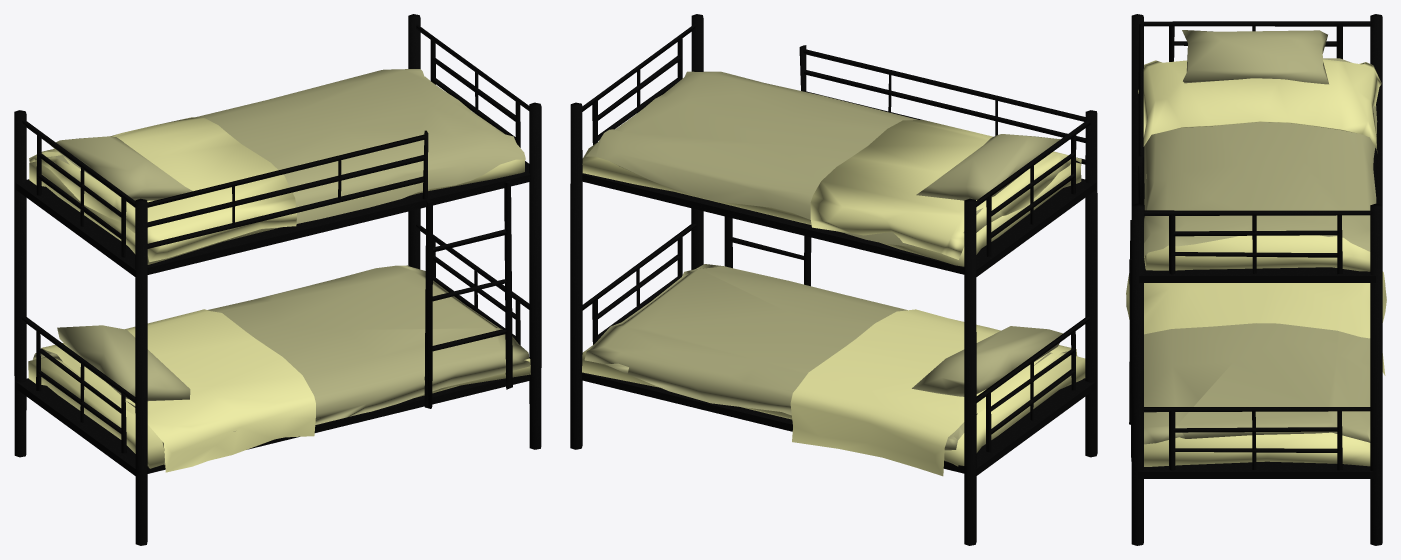
Rendered from metal_bunkbeds.glb.
3 views of the same model, side by side, from view 1: azimuth 30°, elevation 25°; view 2: azimuth 150°, elevation 25°; view 3: azimuth 270°, elevation 25° (orthographic).
Visible parts, largest first — view 1: Cube.002_Material_0; view 2: Cube.002_Material_0; view 3: Cube.002_Material_0.
Part boxes in pixels (x1,y1,x2,y2): Cube.002_Material_0: [14, 14, 541, 545]; Cube.002_Material_0: [570, 14, 1097, 545]; Cube.002_Material_0: [1126, 14, 1386, 545].
Bounding box in the file's own units: 5.21 × 4.2 × 2.95.
Materials: 3 (1 with a texture image).
